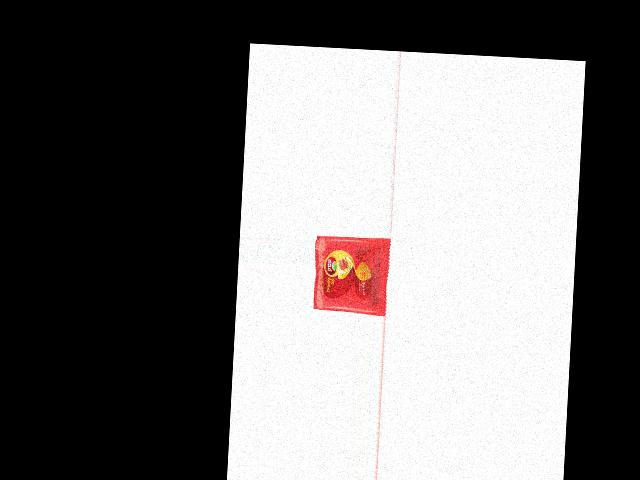cheese: (312, 234, 391, 313)
